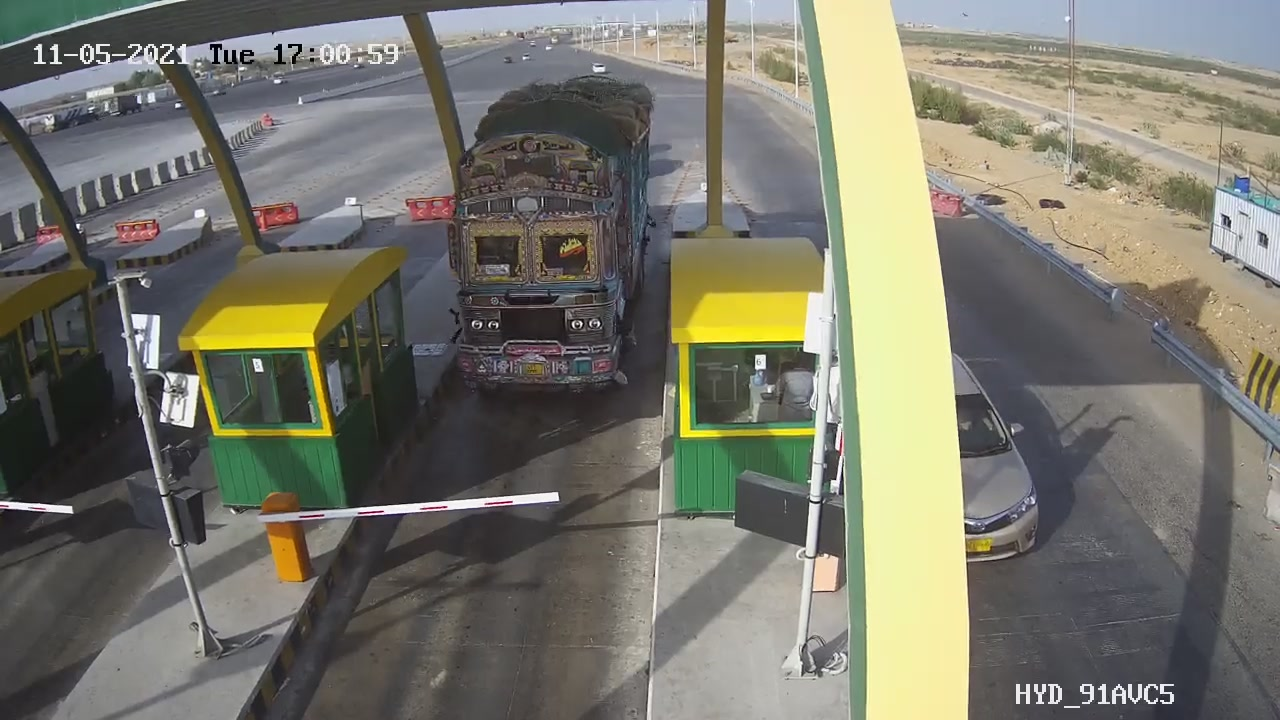F5: (422, 61, 679, 416)
